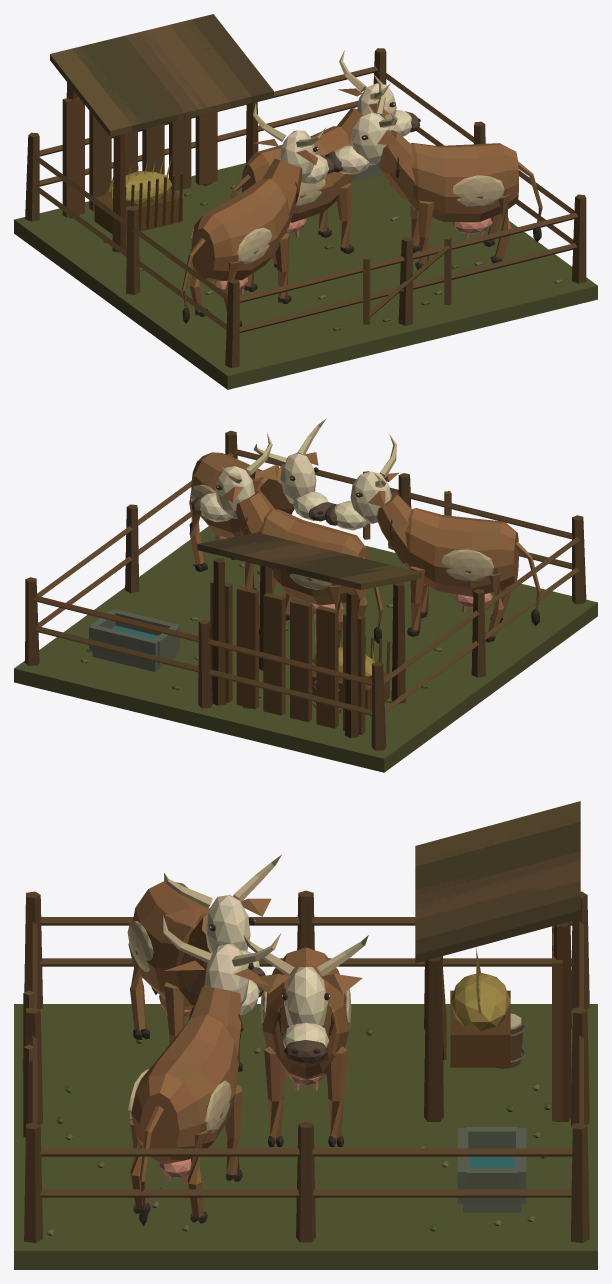
Rendered from elevage_vache_moyen.glb.
3 views of the same model, one above another, from view 1: azimuth 30°, elevation 25°; view 2: azimuth 150°, elevation 25°; view 3: azimuth 270°, elevation 25° (orthographic). The views are drawn at different scales.
Visible parts, largest first — view 1: Enclos_moyen, Vache_02, Vache_01, Vache_00; view 2: Enclos_moyen, Vache_01, Vache_00, Vache_02; view 3: Enclos_moyen, Vache_02, Vache_00, Vache_01.
Part boxes in pixels (x1,y1,x2,y2): Enclos_moyen: [14, 14, 597, 389]; Vache_02: [325, 74, 542, 269]; Vache_01: [182, 103, 334, 326]; Vache_00: [230, 50, 420, 269]; Enclos_moyen: [14, 430, 597, 772]; Vache_01: [325, 434, 540, 642]; Vache_00: [191, 432, 382, 643]; Vache_02: [189, 418, 333, 589]; Enclos_moyen: [14, 801, 597, 1269]; Vache_02: [128, 915, 280, 1225]; Vache_00: [243, 935, 368, 1147]; Vache_01: [127, 855, 281, 1071].
Size of the model in its own units: 0.502 by 0.24 by 0.502.
